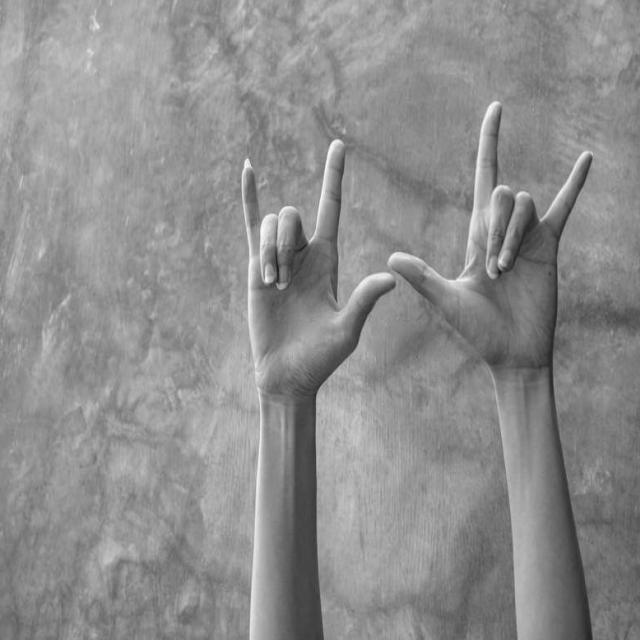i love you: (384, 94, 598, 405), (238, 130, 398, 425)
